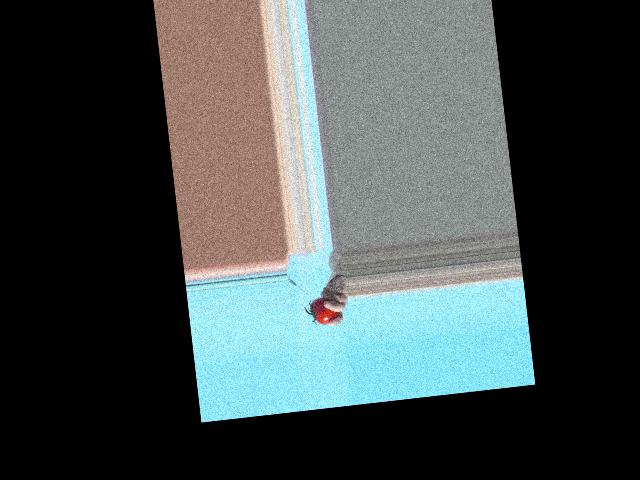tomato: (309, 296, 339, 326)
